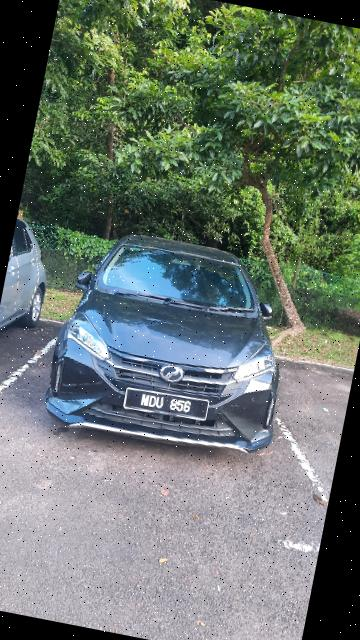License_Plate: (122, 386, 214, 429)
car: (31, 217, 317, 469)
